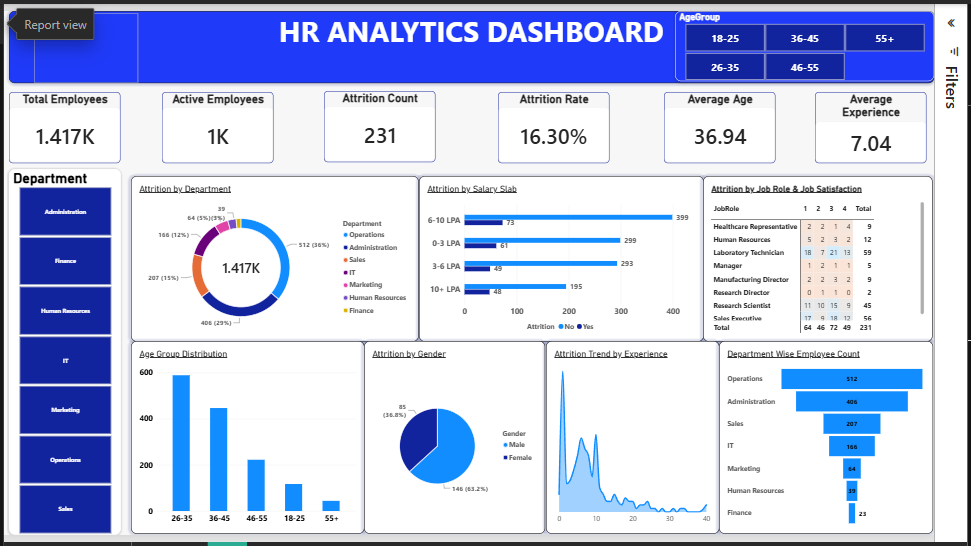

The page's visual inventory and layout, read from the dashboard file:
{"tool":"powerbi","page":{"name":"Page 1","canvas":[1920,1080],"ordinal":0},"visuals":[{"type":"textbox","box":[10.3,0,1909.7,148.6],"z":0},{"type":"image","box":[61.9,4.1,214.7,144.5],"z":1000},{"type":"cardVisual","title":"Total Employees","fields":{"Data":["CountNonNull(HR_Analytics-4.EmpID)"]},"box":[10.5,167.5,230.3,146.6],"z":2000},{"type":"cardVisual","title":"Attrition Count","fields":{"Data":["Sum(HR_Analytics-4.AttritionCount)"]},"box":[660,165,230.3,146.6],"z":3000},{"type":"cardVisual","title":"Attrition Rate","fields":{"Data":["HR_Analytics-4.Attrition Rate %"]},"box":[1019.7,167.5,230.3,146.6],"z":4000},{"type":"cardVisual","title":"Average Age","fields":{"Data":["Avg(HR_Analytics-4.Age)"]},"box":[1363.1,167.5,230.3,146.6],"z":5000},{"type":"cardVisual","title":"Average Experience","fields":{"Data":["Avg(HR_Analytics-4.YearsatCompany)"]},"box":[1673.8,166.7,230.3,146.6],"z":6000},{"type":"cardVisual","title":"Active Employees","fields":{"Data":["Sum(HR_Analytics-4.EmployeeCount)"]},"box":[326.6,167.5,230.3,146.6],"z":7000},{"type":"donutChart","title":"Attrition by Department","fields":{"Category":["HR_Analytics-4.Department"],"Y":["CountNonNull(HR_Analytics-4.Attrition)"]},"box":[262,340,594,342],"z":8000},{"type":"clusteredBarChart","title":"Attrition by Salary Slab","fields":{"Category":["HR_Analytics-4.SalarySlab"],"Series":["HR_Analytics-4.Attrition"],"Y":["CountNonNull(HR_Analytics-4.EmpID)"]},"box":[856,340,588,342],"z":9000},{"type":"pivotTable","title":"Attrition by Job Role & Job Satisfaction","fields":{"Columns":["HR_Analytics-4.JobSatisfaction"],"Rows":["HR_Analytics-4.JobRole"],"Values":["Sum(HR_Analytics-4.AttritionCount)"]},"box":[1444,340,474,342],"z":10000},{"type":"columnChart","title":"Age Group Distribution","fields":{"Category":["HR_Analytics-4.AgeGroup"],"Y":["Sum(HR_Analytics-4.EmployeeCount)"]},"box":[262,682,482,398],"z":11000},{"type":"pieChart","title":"Attrition by Gender","fields":{"Category":["HR_Analytics-4.Gender"],"Y":["Sum(HR_Analytics-4.AttritionCount)"]},"box":[744,682,374,398],"z":12000},{"type":"areaChart","title":"Attrition Trend by Experience","fields":{"Category":["HR_Analytics-4.TotalExperience(Years)"],"Y2":["Sum(HR_Analytics-4.AttritionCount)"]},"box":[1118,682,358,398],"z":13000},{"type":"funnel","title":"Department Wise Employee Count","fields":{"Category":["HR_Analytics-4.Department"],"Y":["CountNonNull(HR_Analytics-4.EmpID)"]},"box":[1476,682,442,398],"z":14000},{"type":"slicer","fields":{"Values":["HR_Analytics-4.Department"]},"box":[9.5,326.2,231,754.8],"z":15000},{"type":"slicer","fields":{"Values":["HR_Analytics-4.AgeGroup"]},"box":[1385,0,535,145],"z":15001}]}

Visuals, with their boxes in screenshot pixels (x1, y1, x2, y2):
textbox: (15, 3, 968, 77)
image: (41, 5, 148, 77)
"Total Employees" cardVisual: (15, 86, 130, 159)
"Attrition Count" cardVisual: (339, 85, 454, 158)
"Attrition Rate" cardVisual: (519, 86, 634, 159)
"Average Age" cardVisual: (690, 86, 805, 159)
"Average Experience" cardVisual: (845, 86, 960, 159)
"Active Employees" cardVisual: (173, 86, 288, 159)
"Attrition by Department" donutChart: (141, 172, 437, 343)
"Attrition by Salary Slab" clusteredBarChart: (437, 172, 730, 343)
"Attrition by Job Role & Job Satisfaction" pivotTable: (730, 172, 967, 343)
"Age Group Distribution" columnChart: (141, 343, 381, 541)
"Attrition by Gender" pieChart: (381, 343, 568, 541)
"Attrition Trend by Experience" areaChart: (568, 343, 746, 541)
"Department Wise Employee Count" funnel: (746, 343, 967, 541)
slicer - HR_Analytics-4.Department: (15, 165, 130, 542)
slicer - HR_Analytics-4.AgeGroup: (701, 3, 968, 75)
